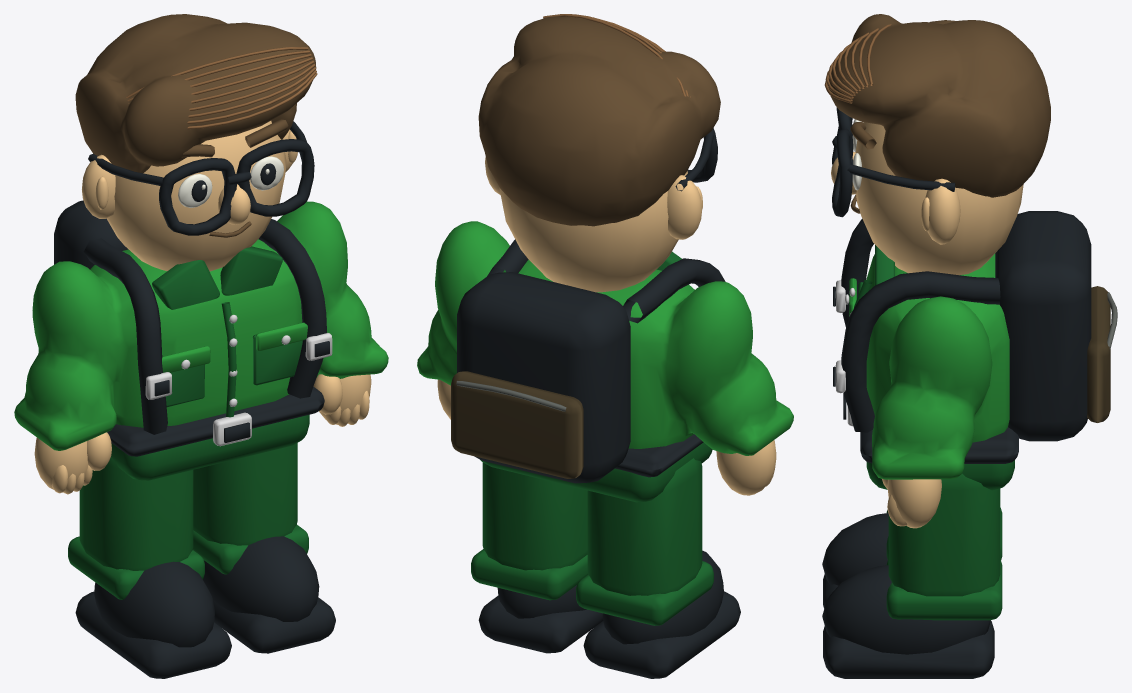
The model's file is hero-explorer.glb.
The picture shows the model from 3 angles, left to right: view 1: azimuth 30°, elevation 25°; view 2: azimuth 150°, elevation 25°; view 3: azimuth 270°, elevation 25°; orthographic projection. The views are drawn at different scales.
Parts seen in each view (by area): view 1: hero-explorer; view 2: hero-explorer; view 3: hero-explorer.
Part boxes in pixels (box(x1,y1,x2,y2)): hero-explorer: box(14, 14, 388, 678); hero-explorer: box(417, 14, 793, 678); hero-explorer: box(822, 14, 1117, 678).
Size of the model in its own units: 0.6884 by 1.16 by 0.508.
